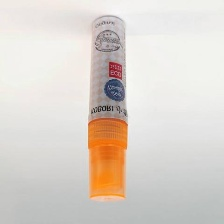cleaning_solution: (83, 13, 129, 205)
